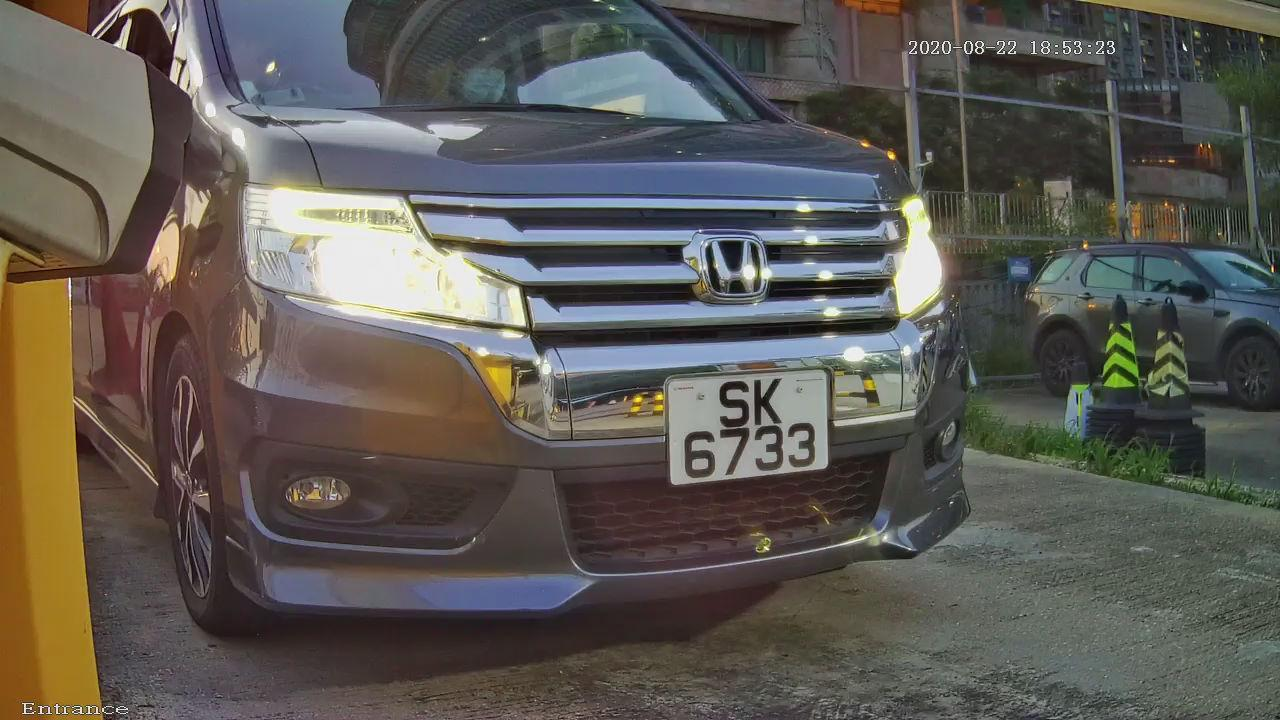Car: (35, 7, 1092, 672)
License Plate: (641, 351, 841, 499)
